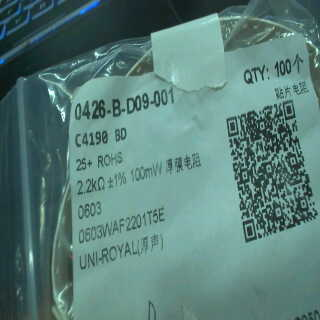2.2kR: (72, 173, 108, 198)
